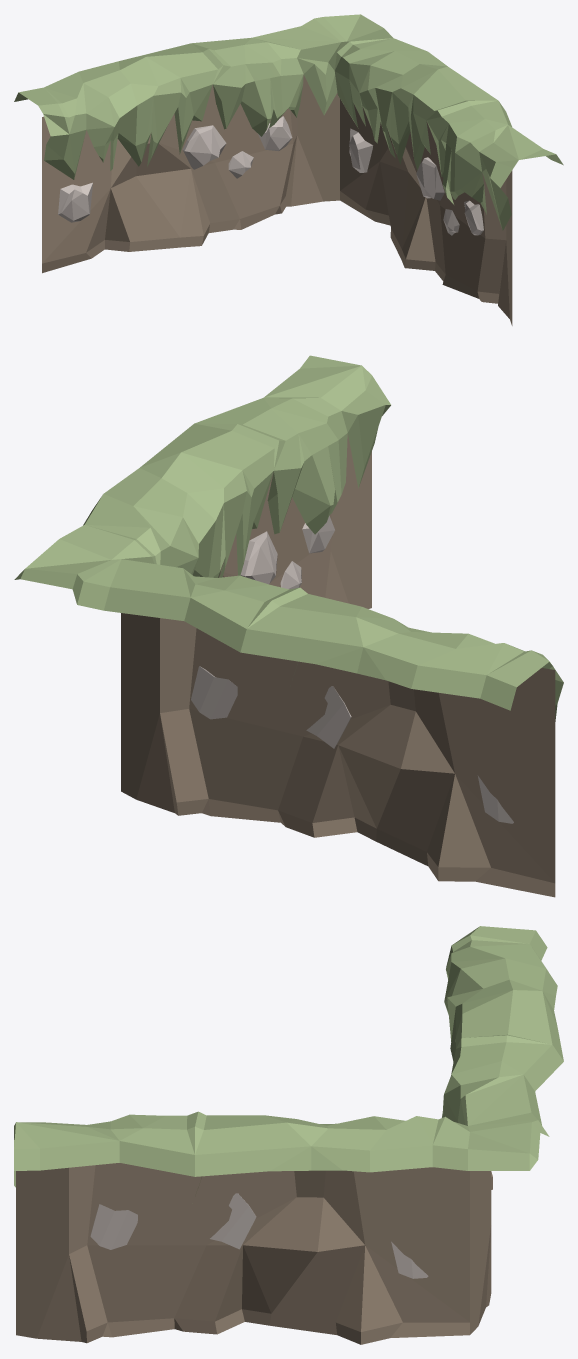
Rendered from ER_Terrain_1x1_GrassCorner_Inverted_Halfsize_001_B1.fbx.
3 views of the same model, one above another, from view 1: azimuth 30°, elevation 25°; view 2: azimuth 150°, elevation 25°; view 3: azimuth 270°, elevation 25° (orthographic). The views are drawn at different scales.
Visible parts, largest first — view 1: ER_Terrain_1x1_GrassCorner_Inverted_Halfsize_001_B1; view 2: ER_Terrain_1x1_GrassCorner_Inverted_Halfsize_001_B1; view 3: ER_Terrain_1x1_GrassCorner_Inverted_Halfsize_001_B1.
Part boxes in pixels (bbox=[...]): ER_Terrain_1x1_GrassCorner_Inverted_Halfsize_001_B1: bbox=[14, 14, 563, 325]; ER_Terrain_1x1_GrassCorner_Inverted_Halfsize_001_B1: bbox=[14, 355, 563, 897]; ER_Terrain_1x1_GrassCorner_Inverted_Halfsize_001_B1: bbox=[14, 926, 563, 1344].
Size of the model in its own units: 1.21 by 0.5611 by 1.21.
